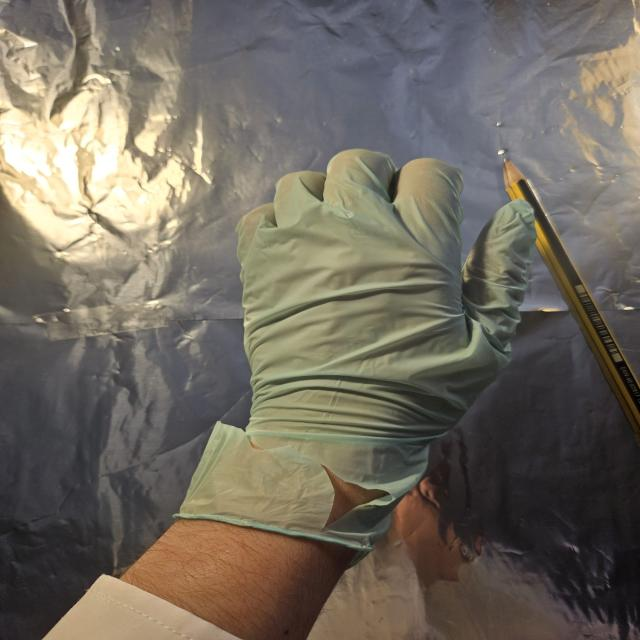gloves_damaged: (183, 149, 542, 554)
